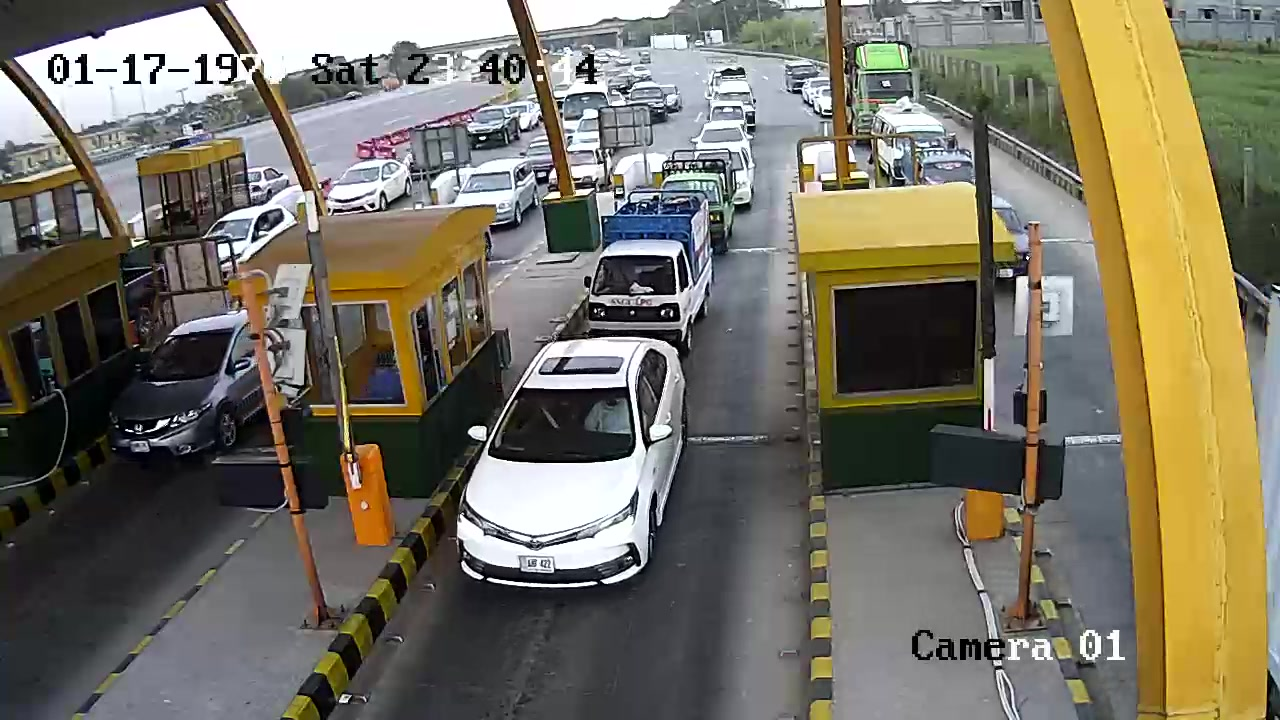F1: (443, 330, 737, 613)
